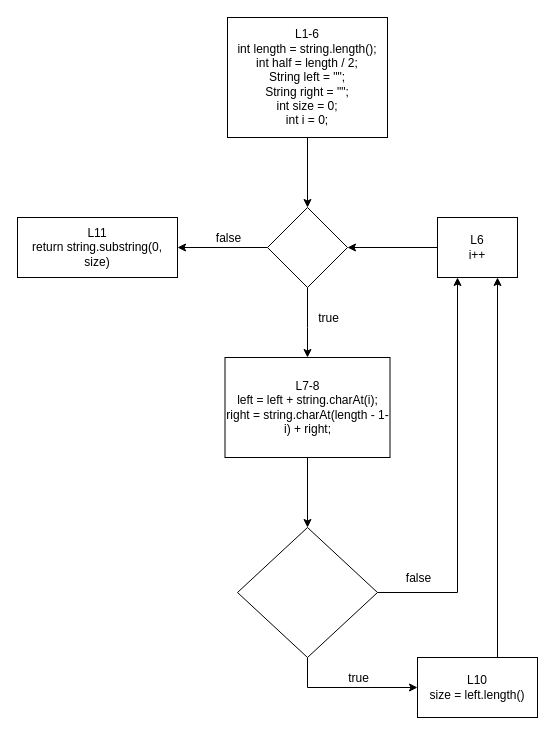
Image size: 555x735. Some labels were removed from this diagram. Each missing label, with the centre of its shape:
"L6 i < half" goes at point 307,247.
"L9 left.equals(right)" goes at point 307,592.
